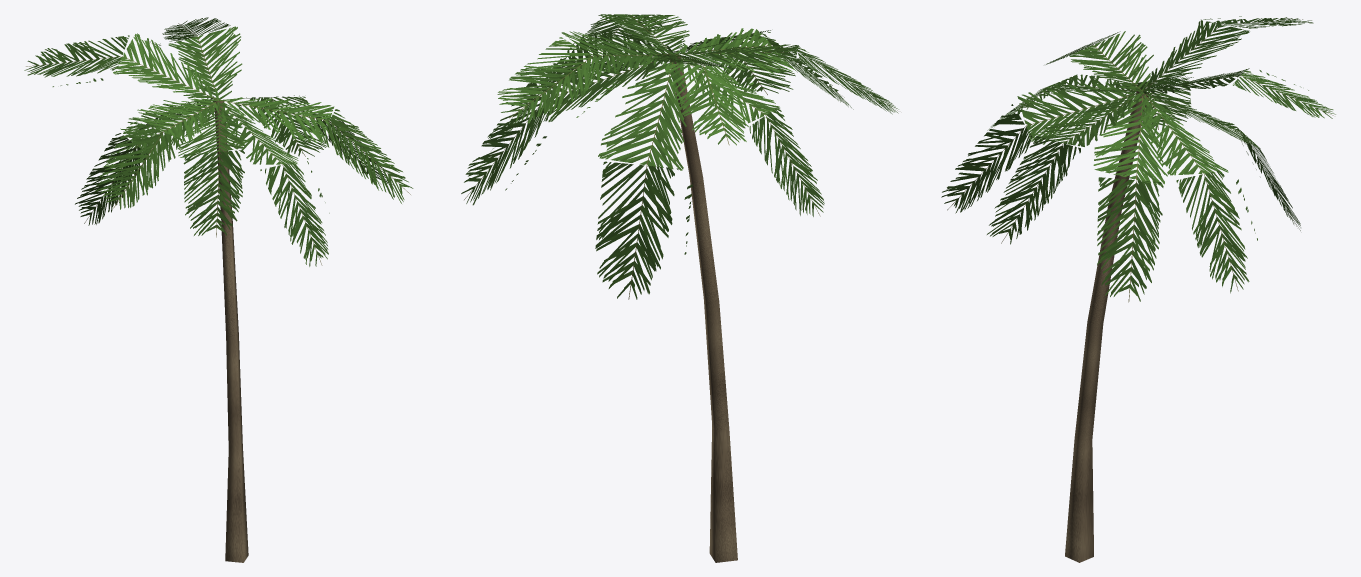
File: mid.glb
The picture shows the model from 3 angles, left to right: view 1: azimuth 30°, elevation 25°; view 2: azimuth 150°, elevation 25°; view 3: azimuth 270°, elevation 25°; orthographic projection. The views are drawn at different scales.
Parts seen in each view (by area): view 1: palm_02; view 2: palm_02; view 3: palm_02.
Boxes of the visible parts, <box> form: palm_02: <box>24,17,413,562</box>; palm_02: <box>461,14,898,562</box>; palm_02: <box>941,16,1335,562</box>.
Bounding box in the file's own units: 10.01 × 13.93 × 10.13.
Materials: 2 (2 with a texture image).
